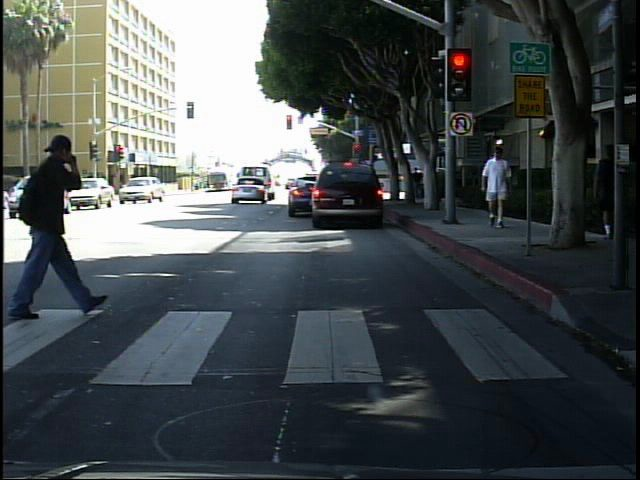person: (11, 123, 104, 337), (593, 137, 627, 246), (475, 145, 514, 230)
